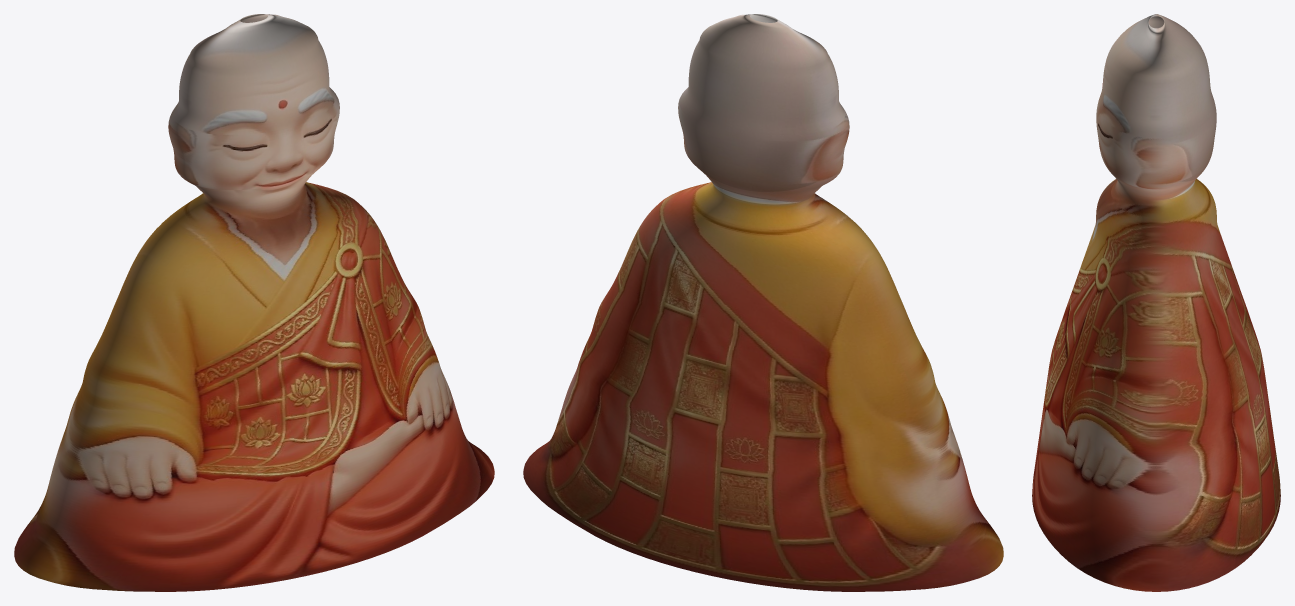
File: su_phu.glb
The picture shows the model from 3 angles, left to right: view 1: azimuth 30°, elevation 25°; view 2: azimuth 150°, elevation 25°; view 3: azimuth 270°, elevation 25°; orthographic projection. The views are drawn at different scales.
Visible parts, largest first — view 1: SuPhu_ThienSu; view 2: SuPhu_ThienSu; view 3: SuPhu_ThienSu.
Part boxes in pixels (x1,y1,x2,y2): SuPhu_ThienSu: [14, 14, 494, 591]; SuPhu_ThienSu: [523, 14, 1003, 591]; SuPhu_ThienSu: [1032, 14, 1280, 591].
Size of the model in its own units: 0.9696 by 1.02 by 0.4835.
1 material, 1 textured.
